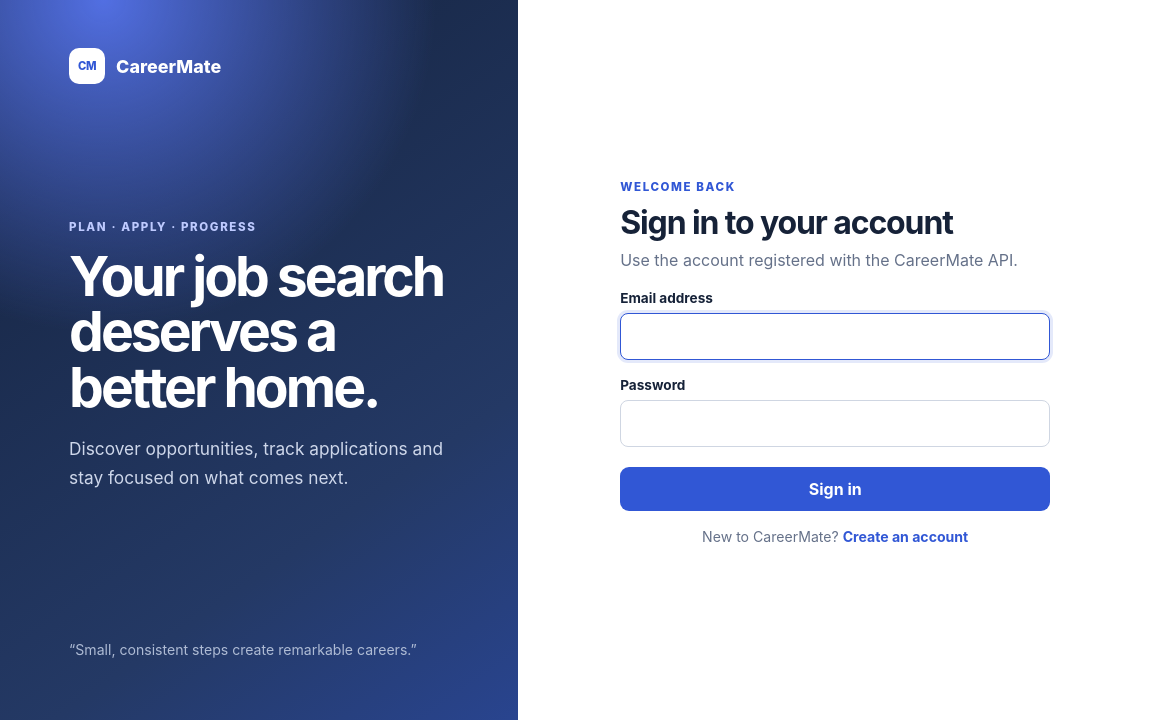
Test: signs in through the API and saves the authenticated session
The image size is (1152, 720).
Type "alex@example.com" into the field labelled "Email address".
click(835, 336); type("alex@example.com")  # box top-left (620, 313), bottom-right (1050, 360)
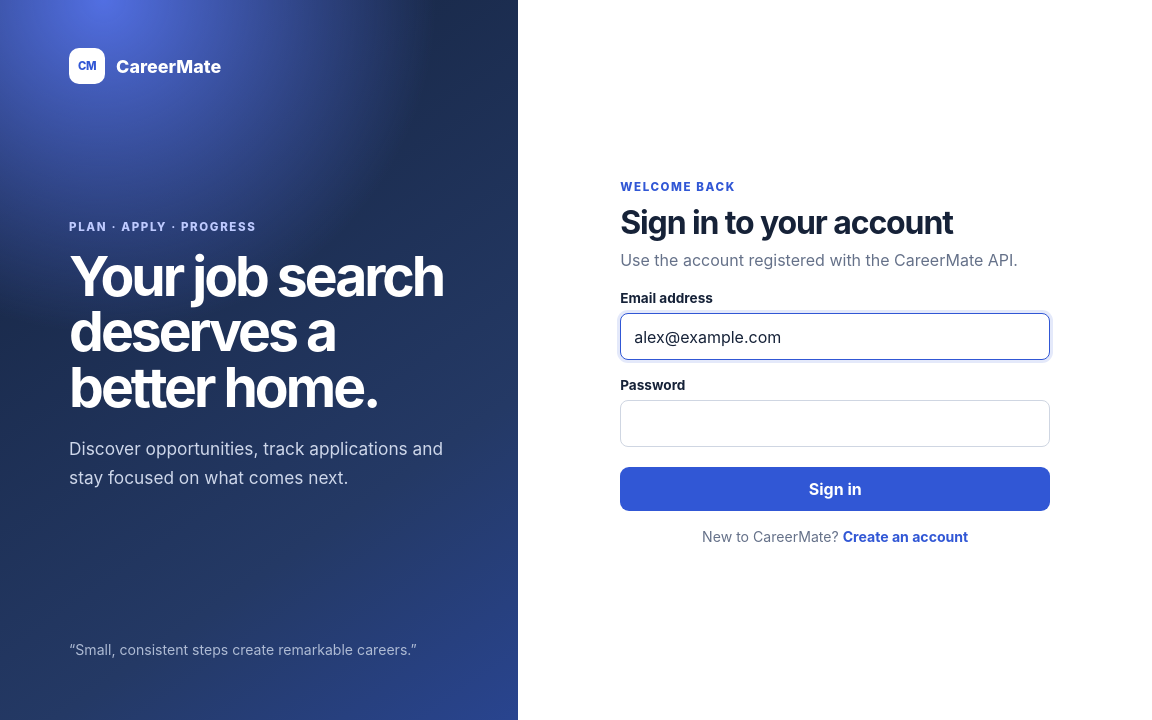
Type "123456" into the password field labelled "Password".
click(835, 424); type("123456")  # box top-left (620, 400), bottom-right (1050, 447)
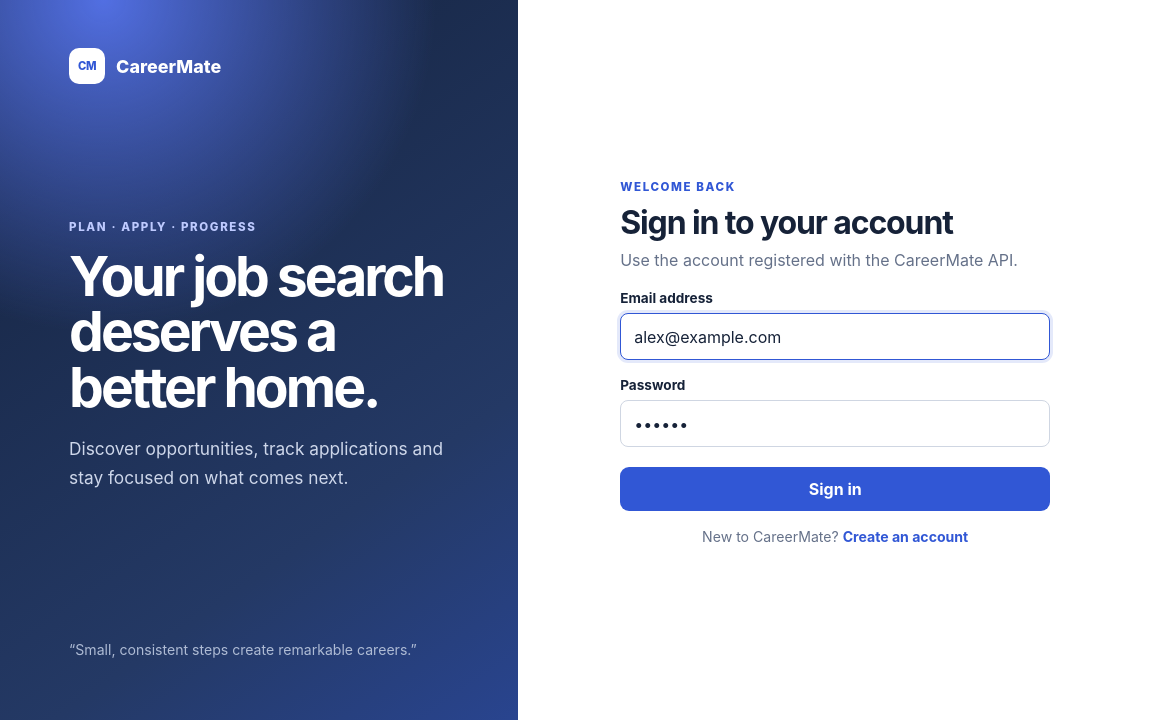
Click the button "Sign in".
click(835, 489)  # box top-left (620, 467), bottom-right (1050, 511)
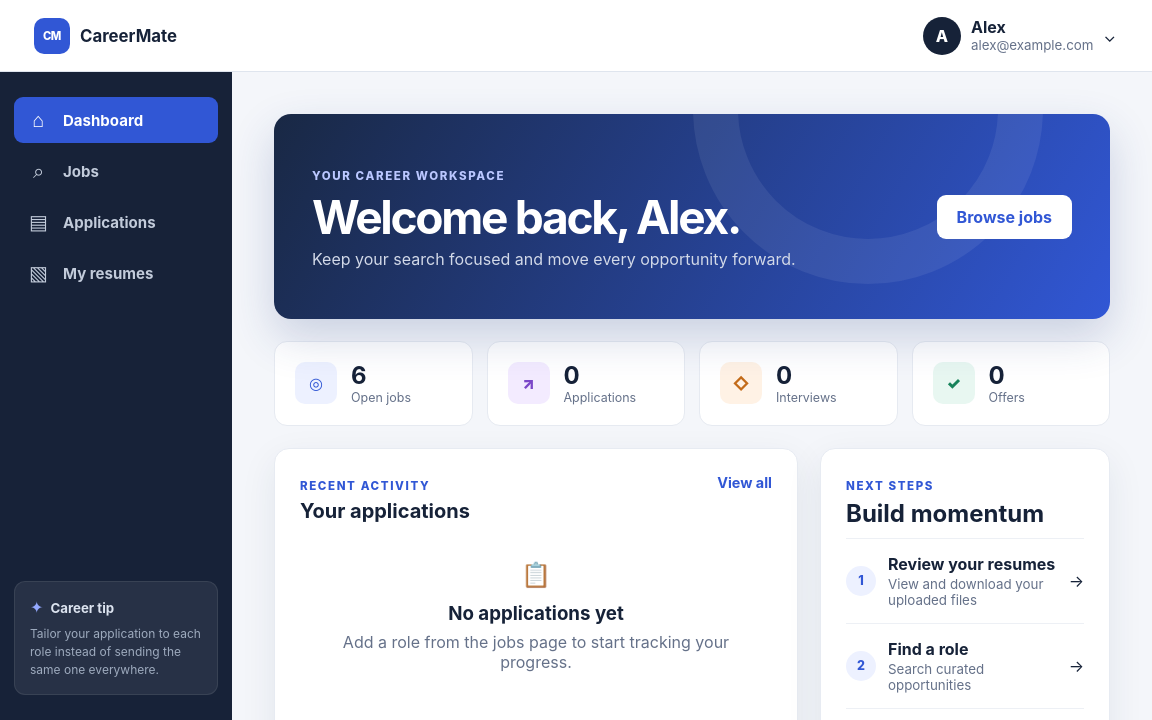
Check: the heading "Welcome back, Alex." is shown, box top-left (312, 194), bottom-right (796, 240)
